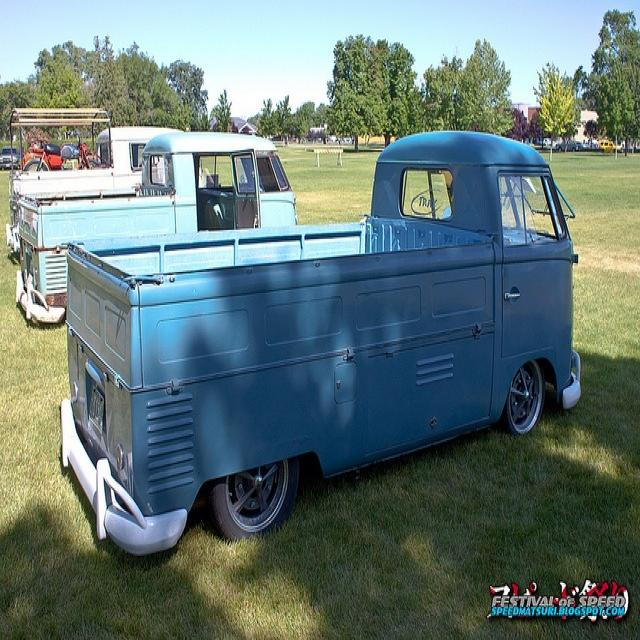car: (5, 125, 182, 251), (0, 142, 19, 166), (598, 138, 614, 152), (575, 138, 583, 147), (542, 135, 550, 143)
motorbike: (18, 135, 101, 168)
truck: (58, 131, 583, 554), (16, 134, 297, 322), (1, 117, 178, 240), (554, 138, 576, 150)
